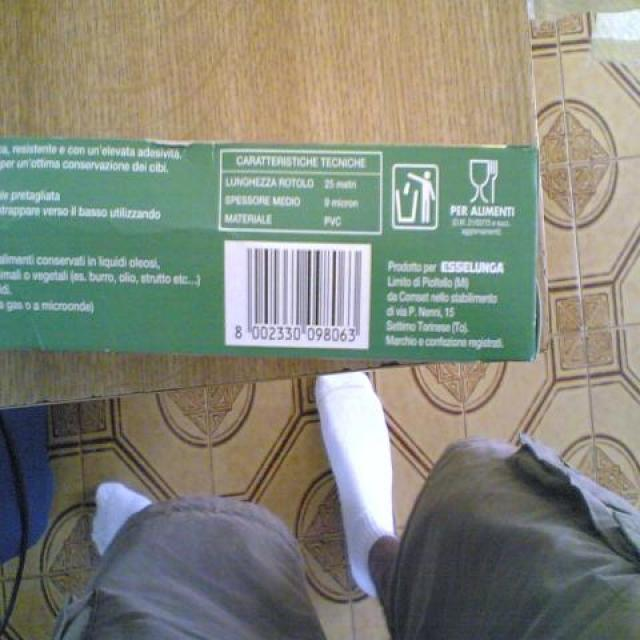Barcode: (225, 243, 370, 348)
